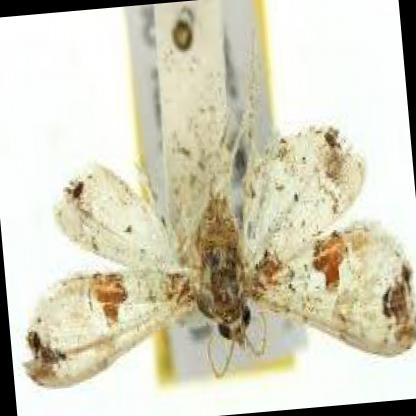leucinodes: (22, 130, 416, 392)
